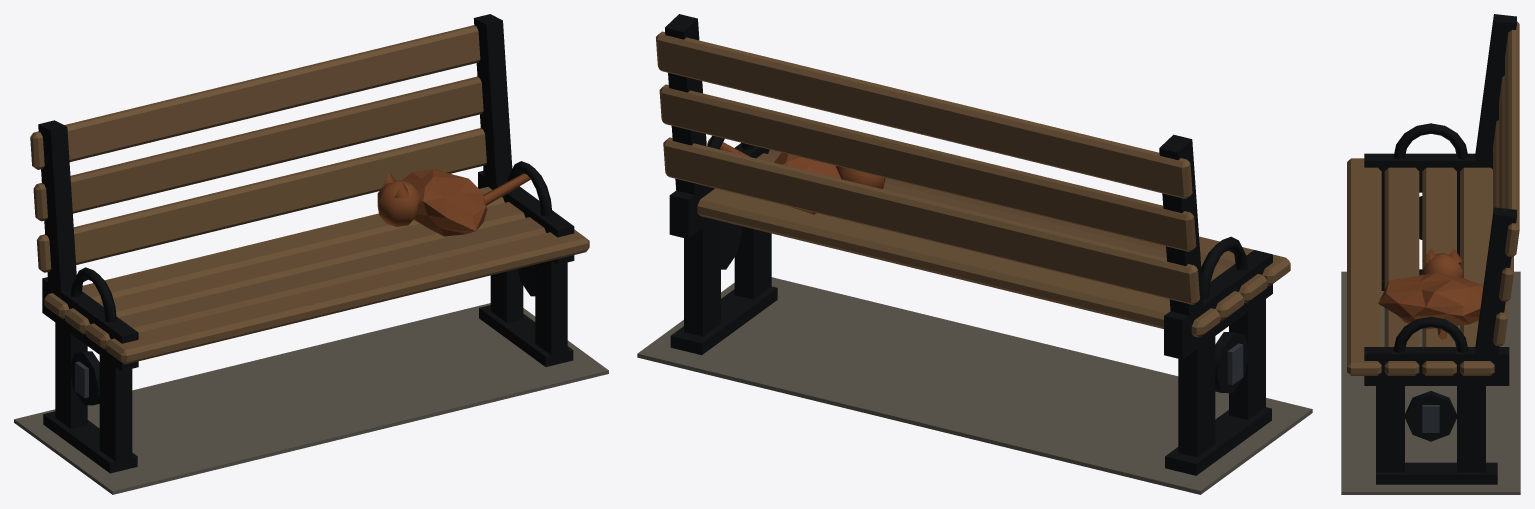
File: platform-bench.glb
3 views of the same model, side by side, from view 1: azimuth 30°, elevation 25°; view 2: azimuth 150°, elevation 25°; view 3: azimuth 270°, elevation 25° (orthographic). The views are drawn at different scales.
Parts seen in each view (by area): view 1: platform_bench; view 2: platform_bench; view 3: platform_bench.
Part boxes in pixels (x1,y1,x2,y2): platform_bench: (14, 14, 608, 494); platform_bench: (637, 14, 1312, 494); platform_bench: (1341, 14, 1520, 494).
Bounding box in the file's own units: 1.8 × 1.03 × 0.62.
